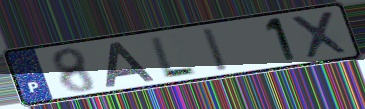1: (261, 15, 300, 64)
8: (49, 46, 98, 94)
A: (103, 40, 157, 89)
I: (199, 26, 232, 74)
L: (147, 34, 199, 78)
X: (287, 9, 353, 60)
